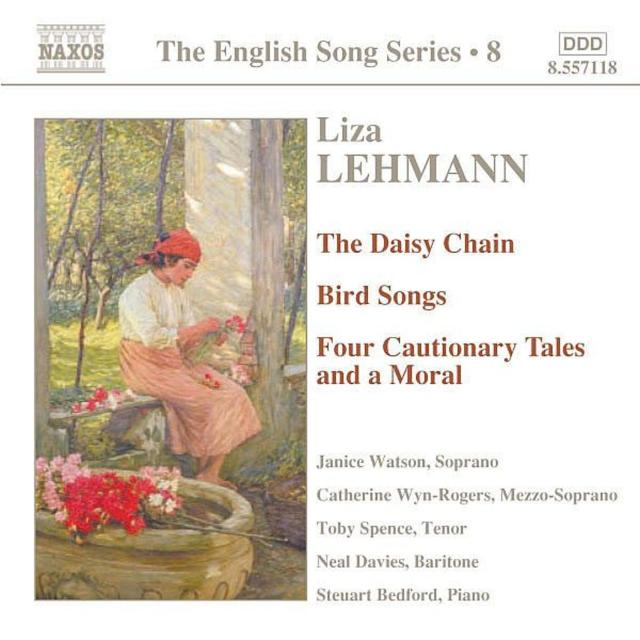Flower: (41, 451, 180, 531), (66, 384, 128, 408), (225, 357, 253, 378), (220, 314, 248, 334), (31, 453, 49, 477)
